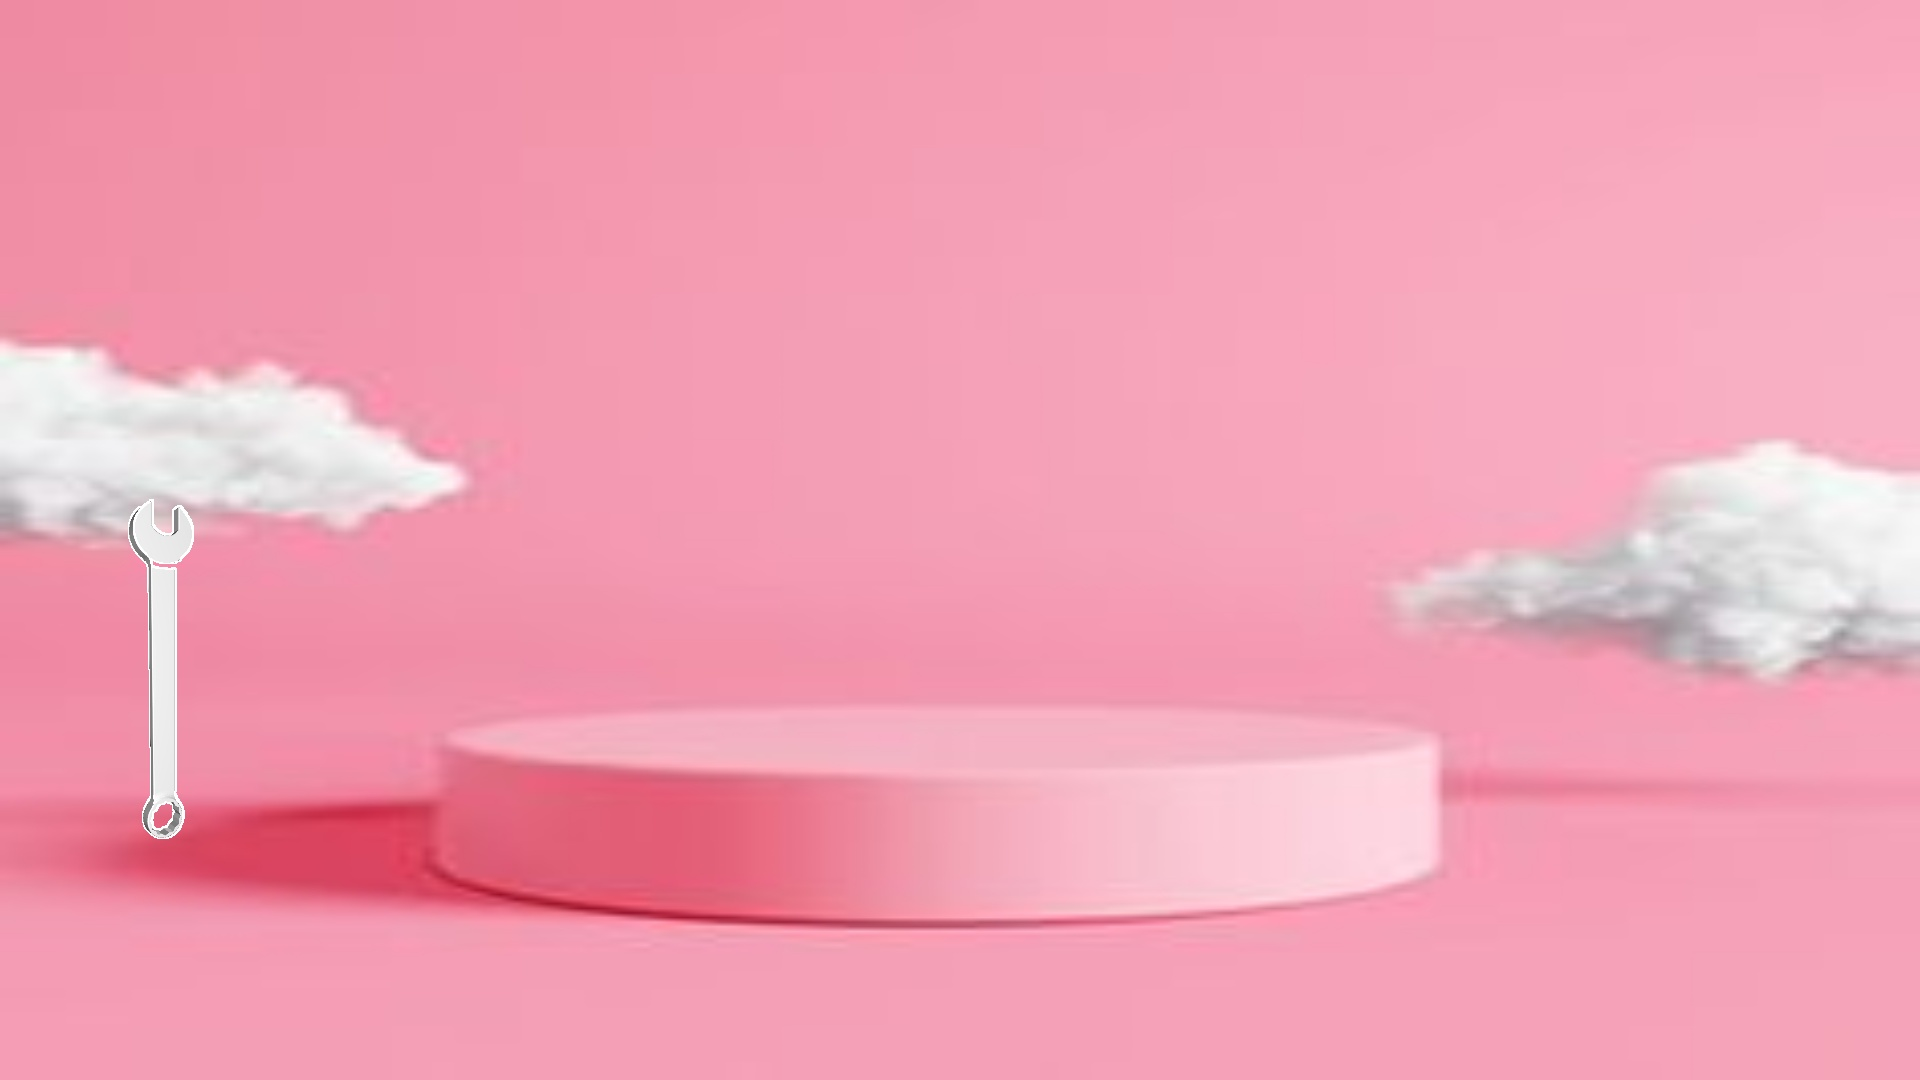Mixed Key: (128, 498, 193, 837)
